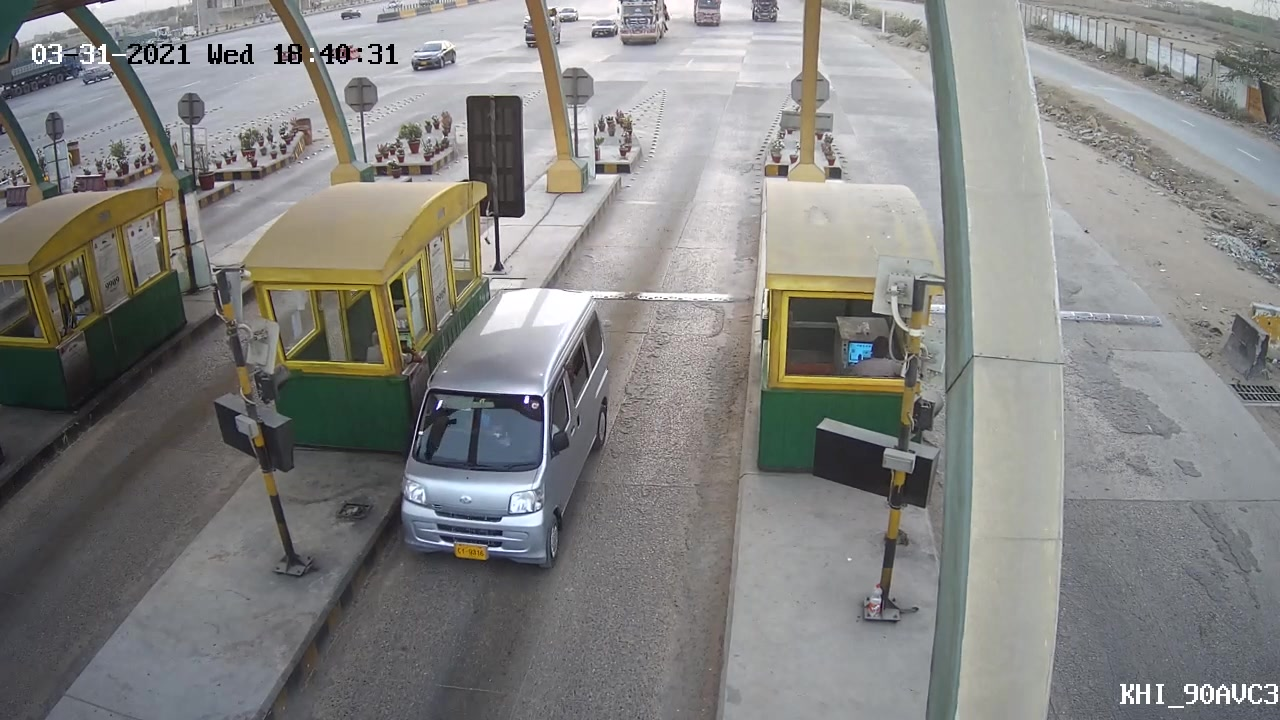F1: (395, 287, 619, 579)
